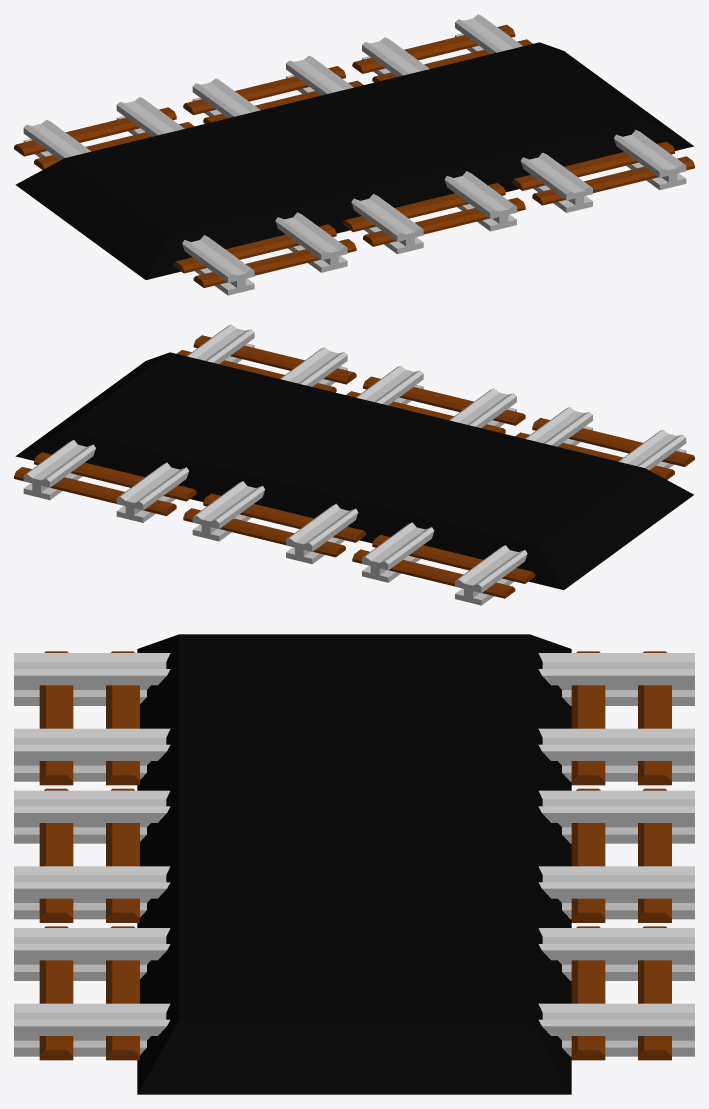
The model's file is RailsWithBlockator.fbx.
The picture shows the model from 3 angles, top to bottom: view 1: azimuth 30°, elevation 25°; view 2: azimuth 150°, elevation 25°; view 3: azimuth 270°, elevation 25°; orthographic projection. The views are drawn at different scales.
Visible parts, largest first — view 1: Blockator, Cube.016, Cube.014, Cube.012, Cube.017, Cube.013, Cube.015; view 2: Blockator, Cube.014, Cube.012, Cube.016, Cube.017, Cube.013, Cube.015; view 3: Blockator, Cube.012, Cube.016, Cube.014, Cube.013, Cube.015, Cube.017.
Part boxes in pixels (box(x1,y1,x2,y2)): Blockator: box(15, 42, 693, 279); Cube.016: box(23, 97, 347, 295); Cube.014: box(362, 14, 686, 212); Cube.012: box(192, 56, 516, 254); Cube.017: box(14, 107, 356, 287); Cube.013: box(183, 66, 525, 246); Cube.015: box(352, 24, 694, 205); Blockator: box(15, 352, 693, 589); Cube.014: box(23, 324, 347, 522); Cube.012: box(192, 365, 516, 564); Cube.016: box(362, 407, 686, 605); Cube.017: box(352, 418, 694, 598); Cube.013: box(183, 376, 525, 557); Cube.015: box(14, 335, 356, 515); Blockator: box(137, 634, 571, 1094); Cube.012: box(14, 790, 694, 919); Cube.016: box(14, 653, 694, 781); Cube.014: box(14, 928, 694, 1056); Cube.013: box(39, 788, 671, 922); Cube.015: box(39, 926, 671, 1060); Cube.017: box(39, 651, 671, 785).
Size of the model in its own units: 1244 by 58.07 by 804.
